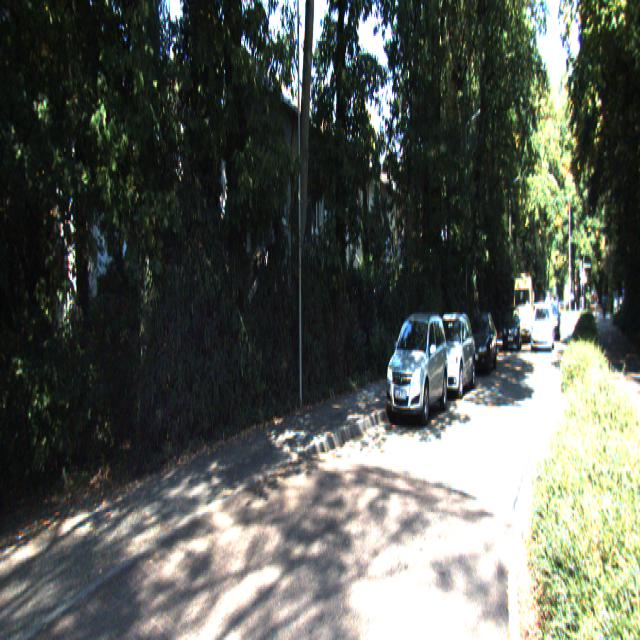Car: (384, 307, 450, 428), (426, 311, 477, 401), (467, 310, 499, 376), (514, 267, 536, 339), (531, 299, 555, 348), (502, 303, 522, 351)
